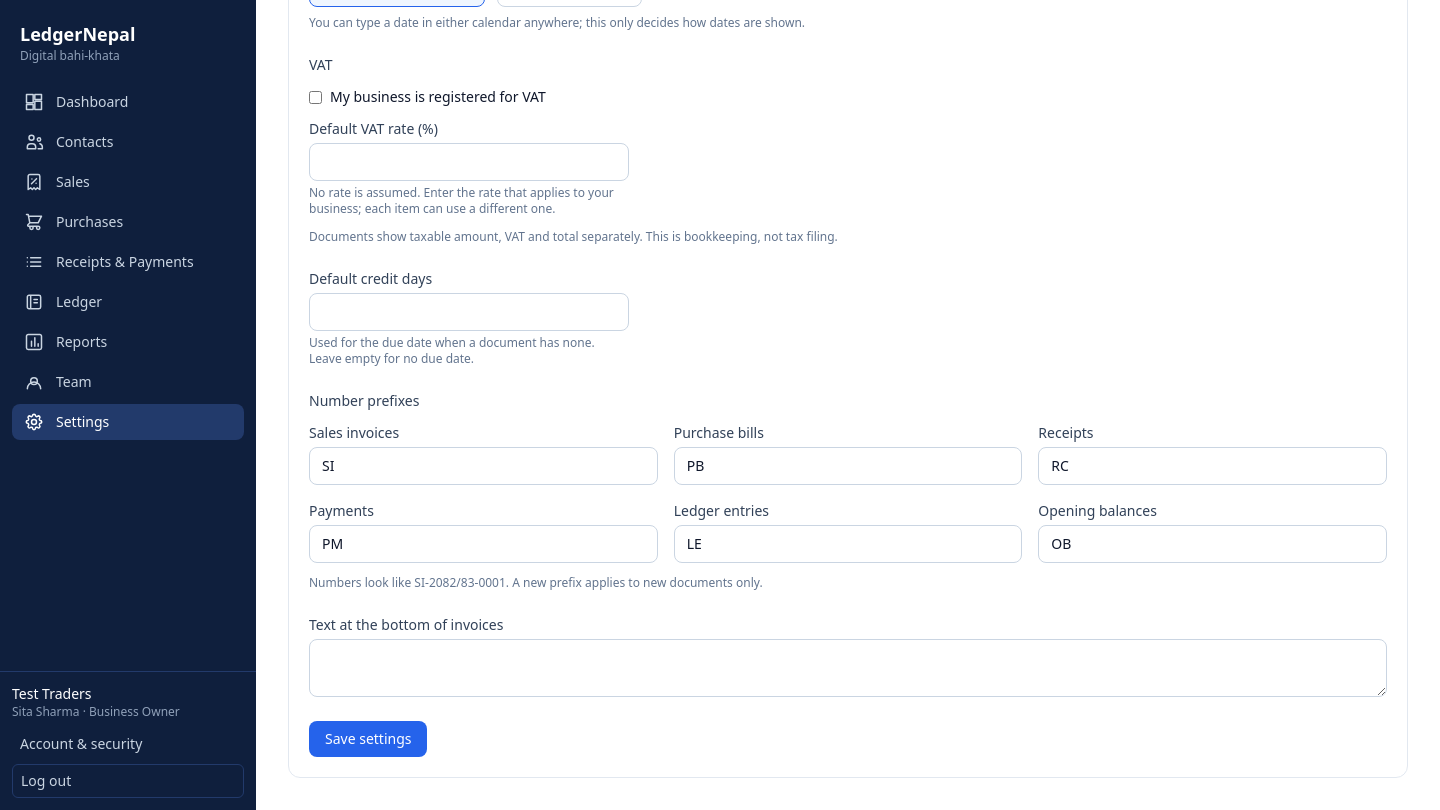
Test case: Settings › puts a prefix, rate or credit-day problem next to the right input
(page scrolled)
Click the button "Save settings". click: (368, 739)
box: [309, 721, 428, 757]
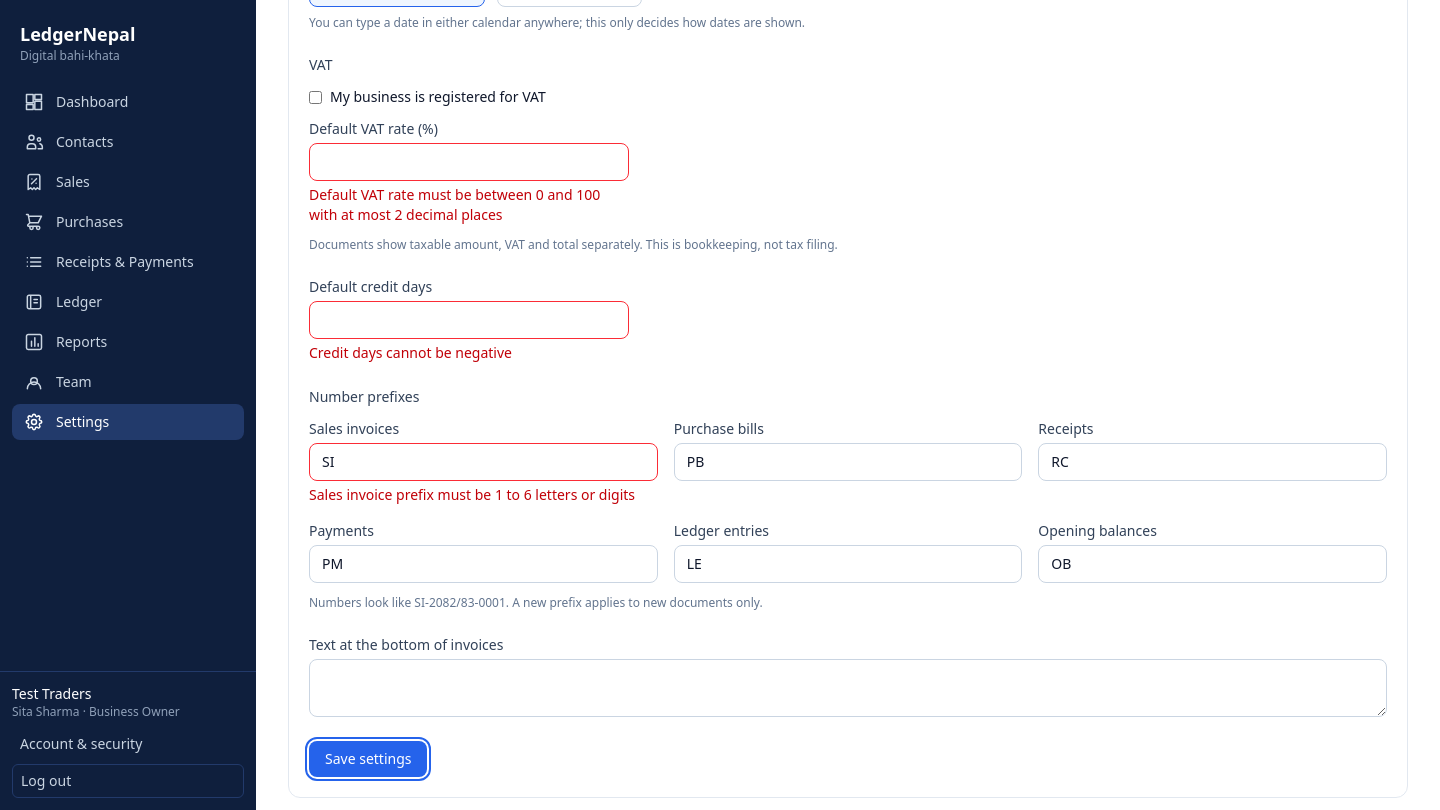
Check: the text "Sales invoice prefix must be 1 to 6 letters or digits" is shown, box [309, 485, 658, 505]
Check: the text "must be between 0 and 100" is shown, box [309, 185, 600, 224]
Check: the text "Credit days cannot be negative" is shown, box [309, 343, 512, 362]
